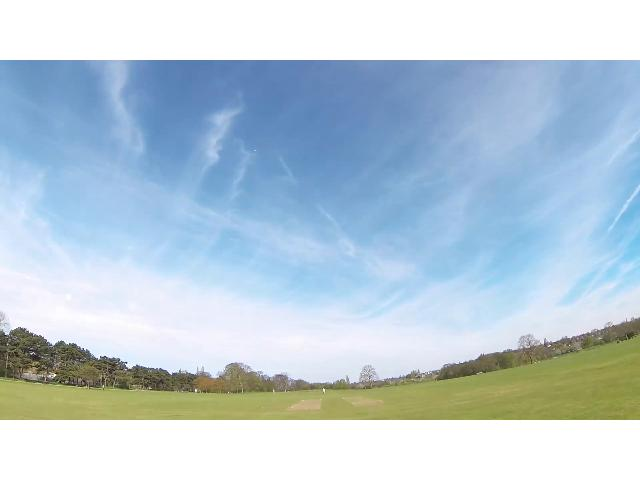Anti-Drone: (250, 148, 260, 154)
